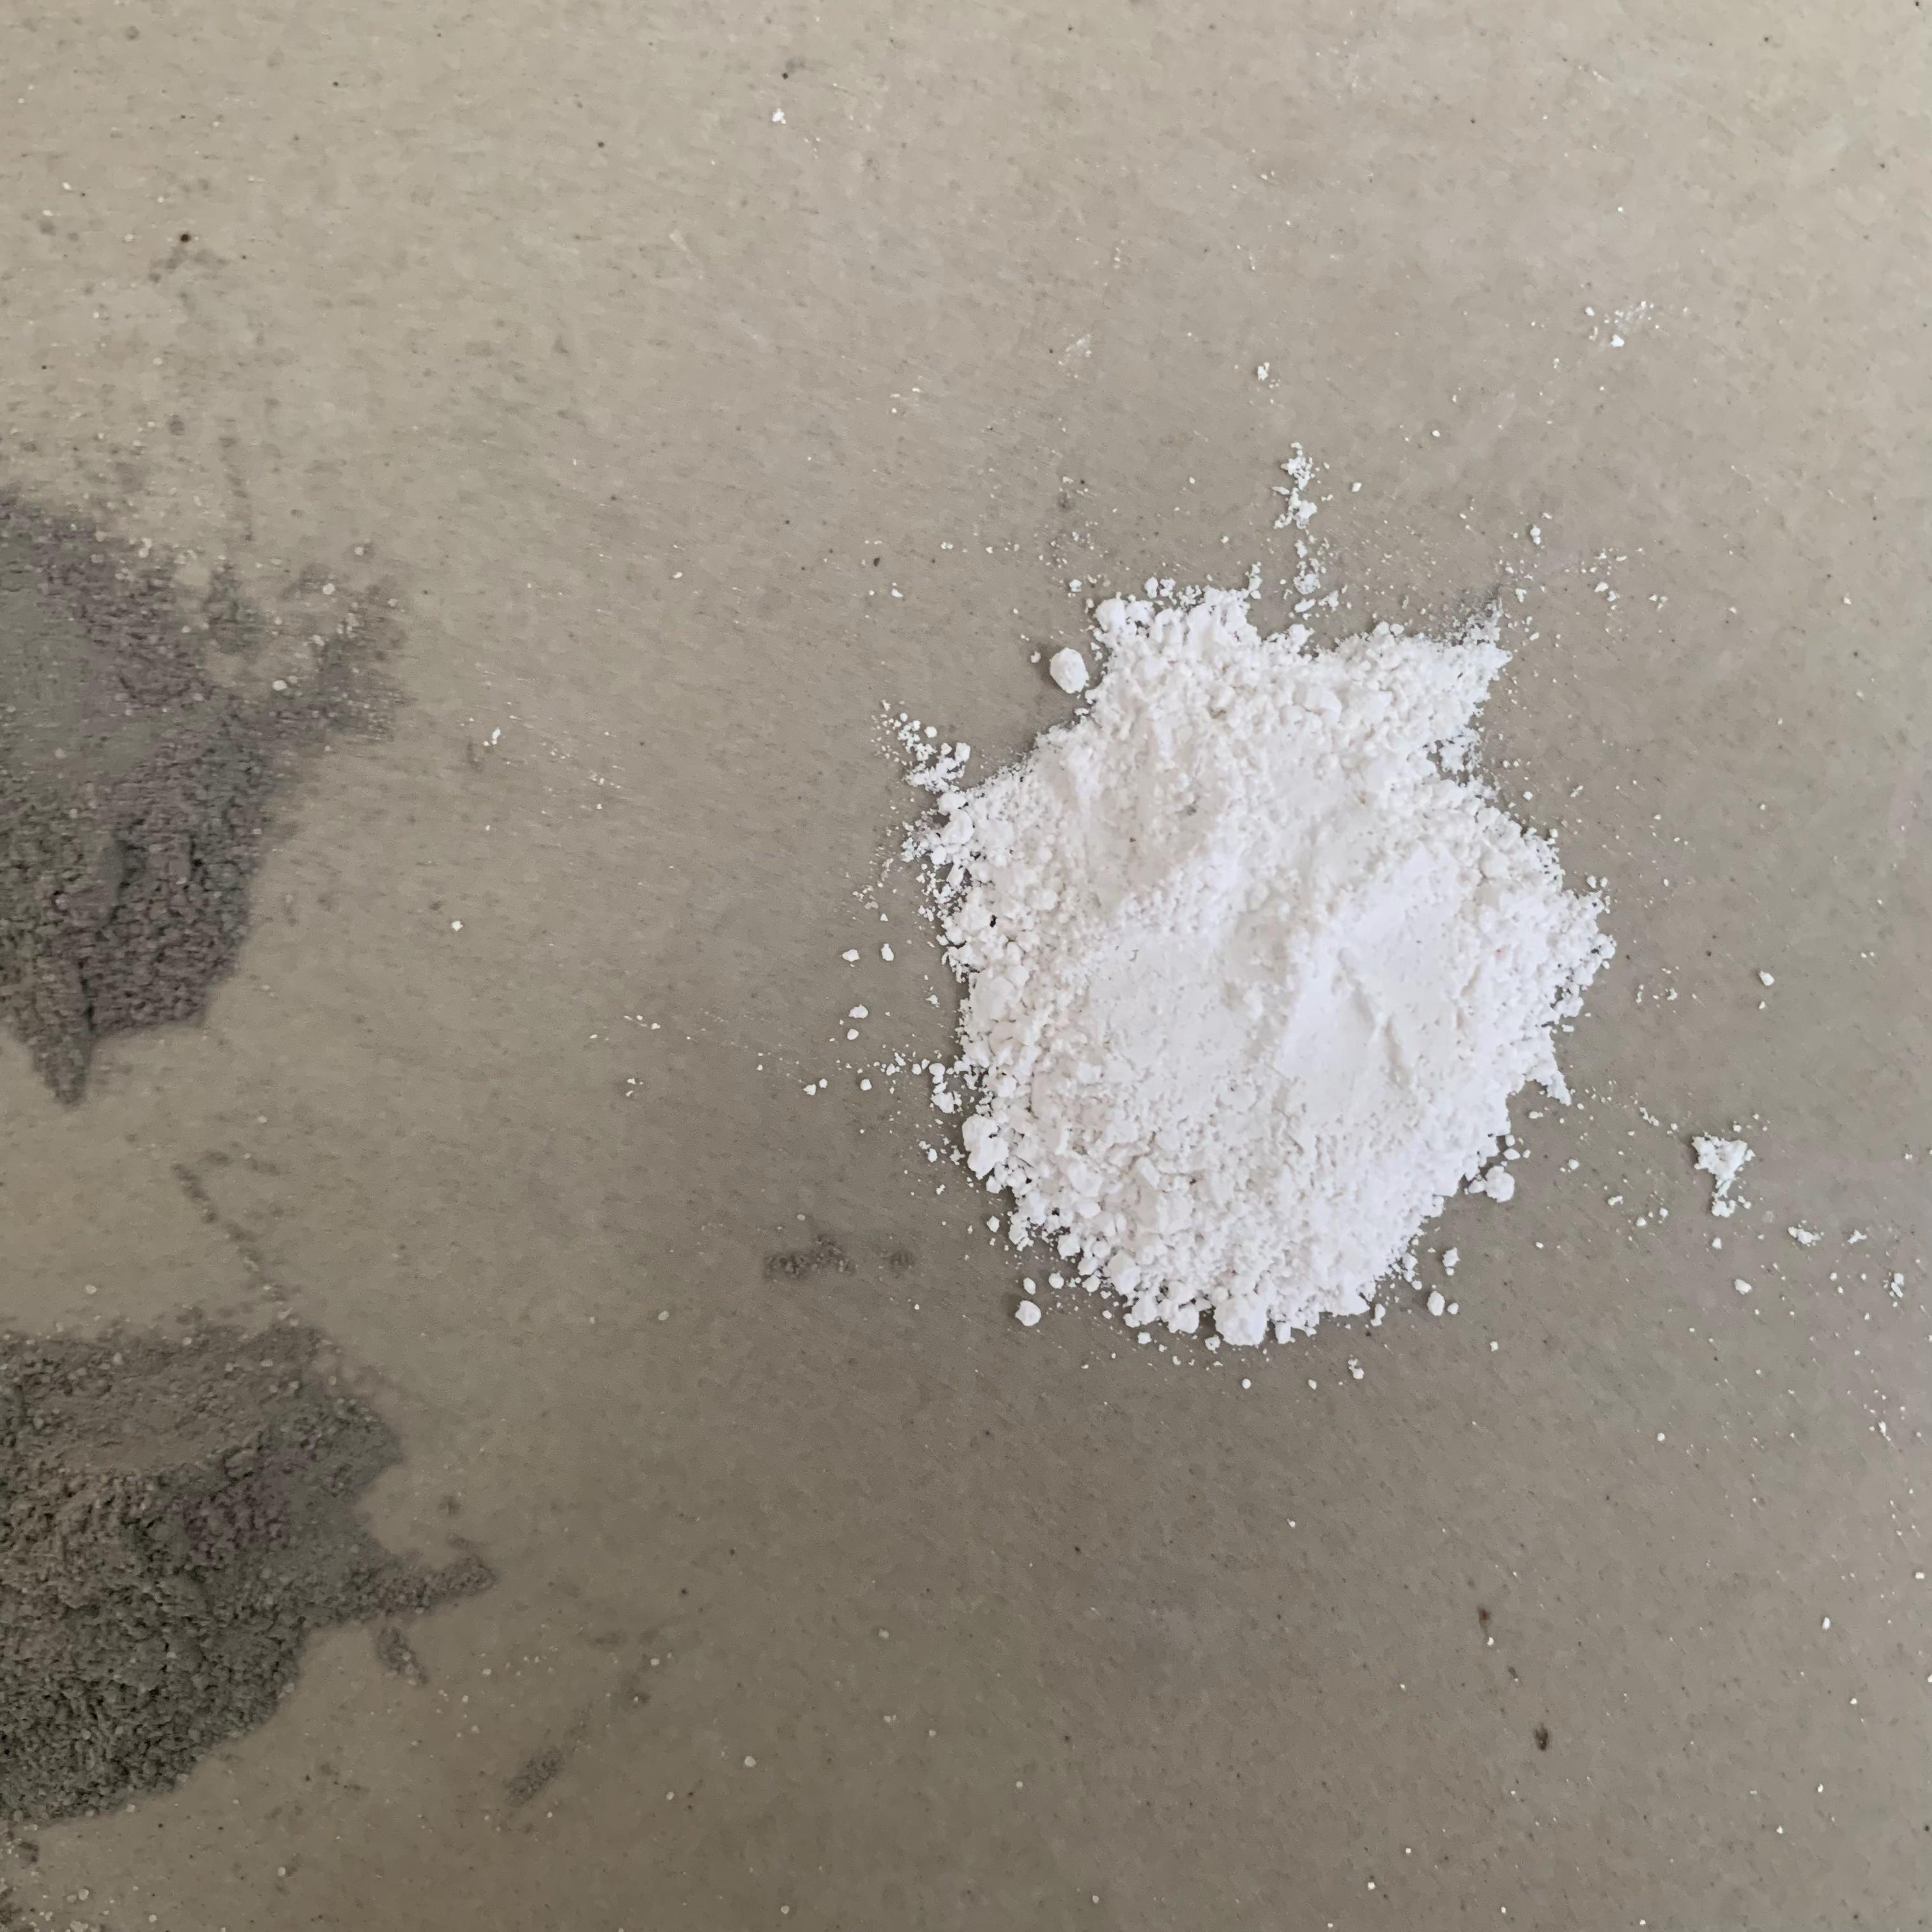ash pile: (874, 437, 1628, 1357), (0, 1316, 487, 1865), (0, 492, 409, 1104), (1693, 1134, 1755, 1219)
